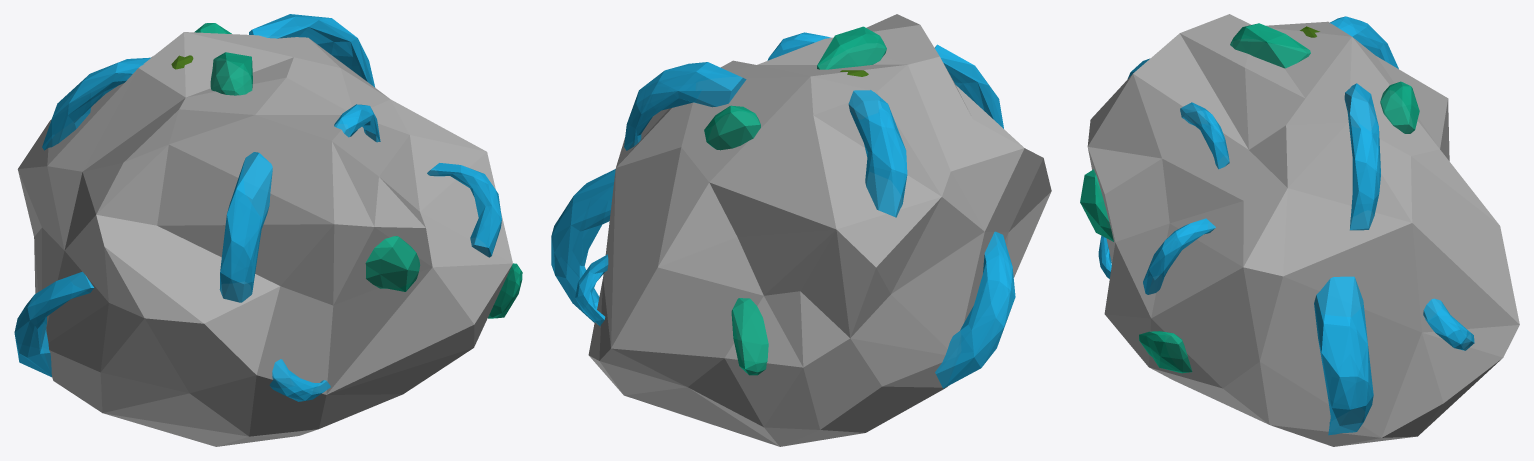
Rendered from WaterstoneOre.fbx.
The picture shows the model from 3 angles, left to right: view 1: azimuth 30°, elevation 25°; view 2: azimuth 150°, elevation 25°; view 3: azimuth 270°, elevation 25°; orthographic projection. The views are drawn at different scales.
Visible parts, largest first — view 1: WaterstoneOre; view 2: WaterstoneOre; view 3: WaterstoneOre.
Part boxes in pixels (x1,y1,x2,y2): WaterstoneOre: [14, 14, 522, 446]; WaterstoneOre: [551, 14, 1051, 446]; WaterstoneOre: [1080, 14, 1519, 446].
Bounding box in the file's own units: 410 × 334 × 363.
